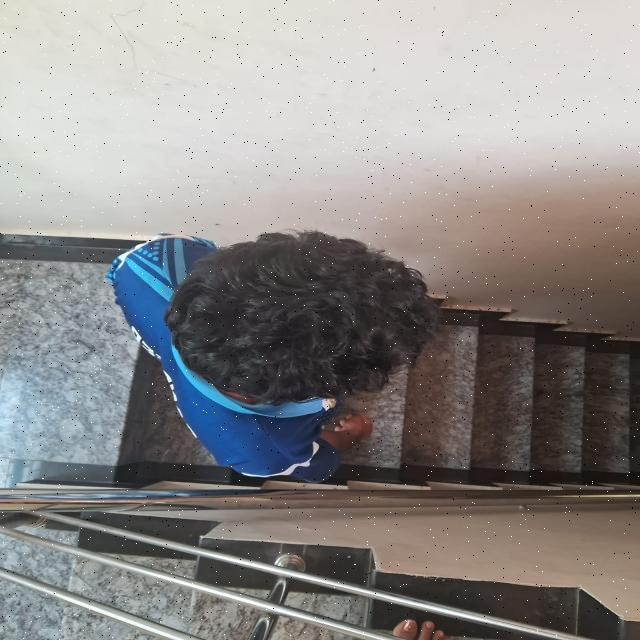humans: (101, 223, 442, 482)
